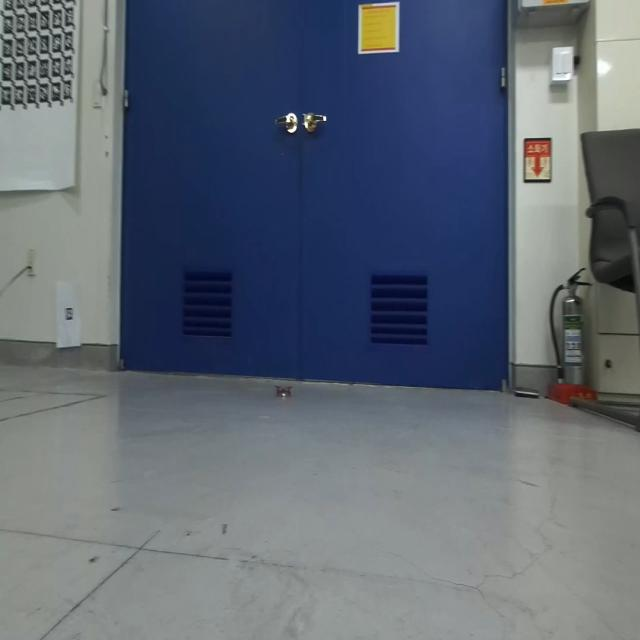crazyflie: (271, 379, 296, 405)
